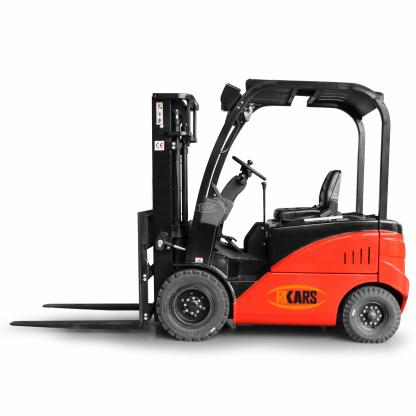forklift: (9, 77, 409, 344)
